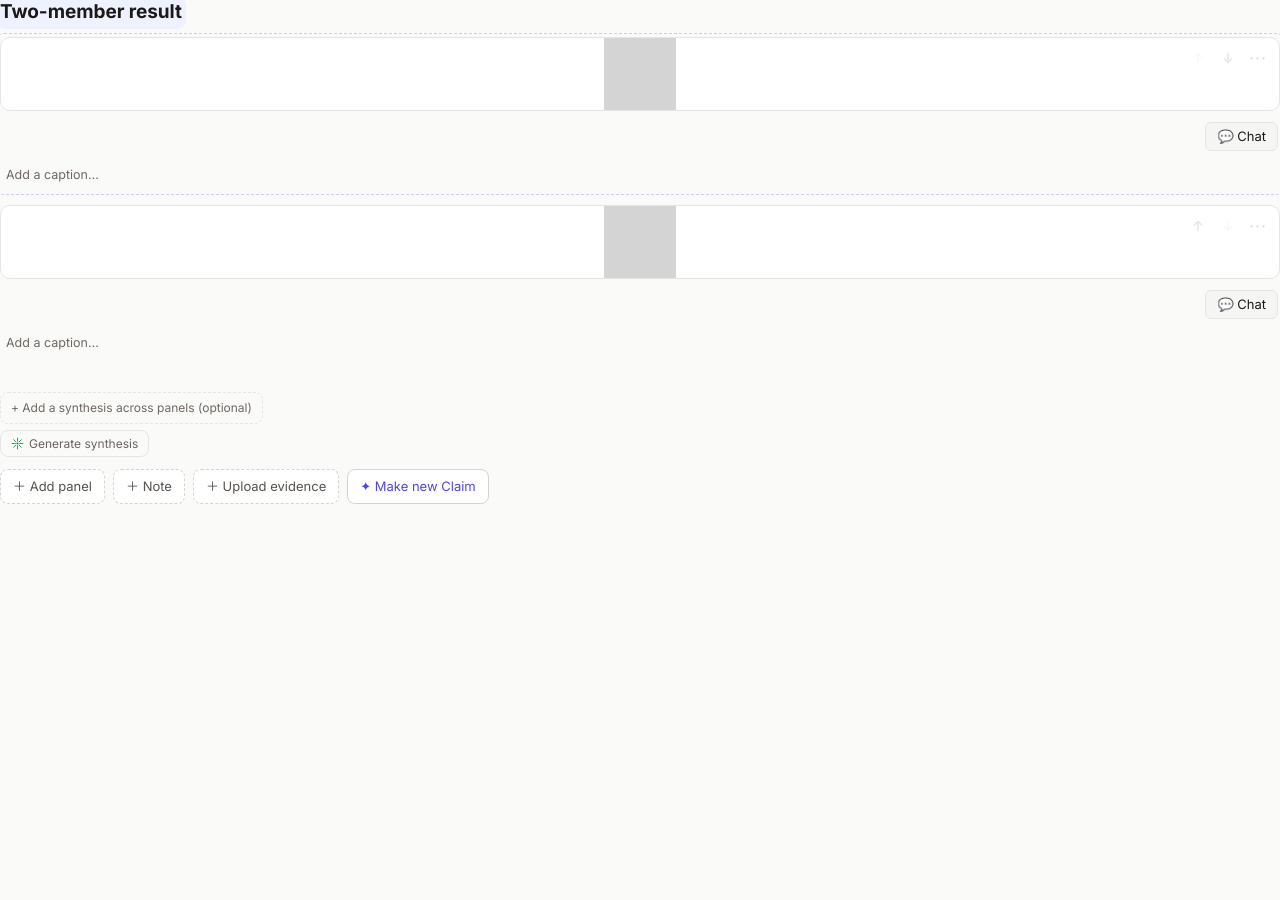
Test: ResultView.MemberPanel (redesigned) › ⋯ menu → "Remove from Result" when other members exist → standard remove-confirm dialog
The width and height of the screenshot is (1280, 900).
Click the 1st button with class "rv-panel__more-btn": (1258, 58) x1=1244 y1=45 x2=1272 y2=71
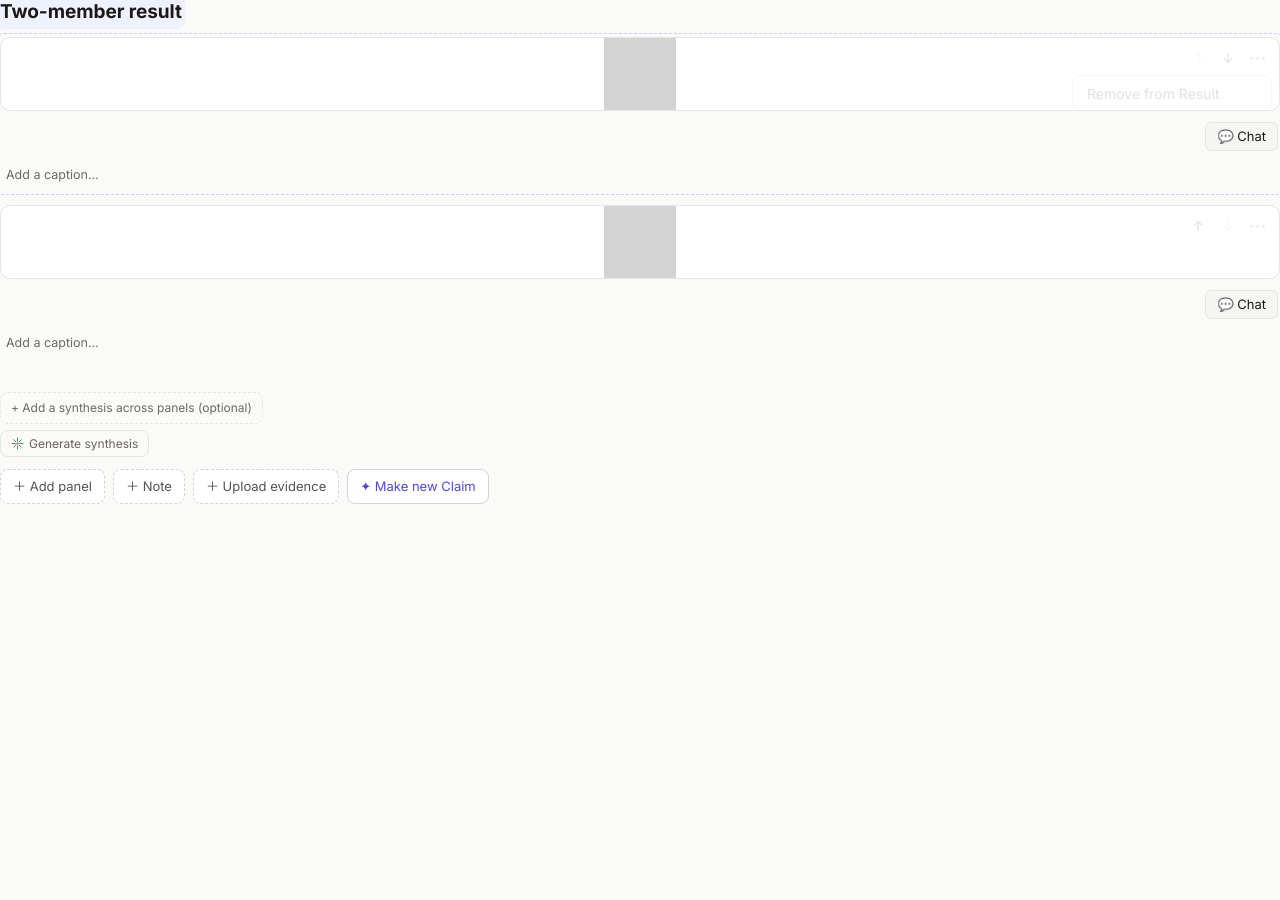
Click the menu item "Remove from Result": (1172, 93) x1=1077 y1=80 x2=1267 y2=106
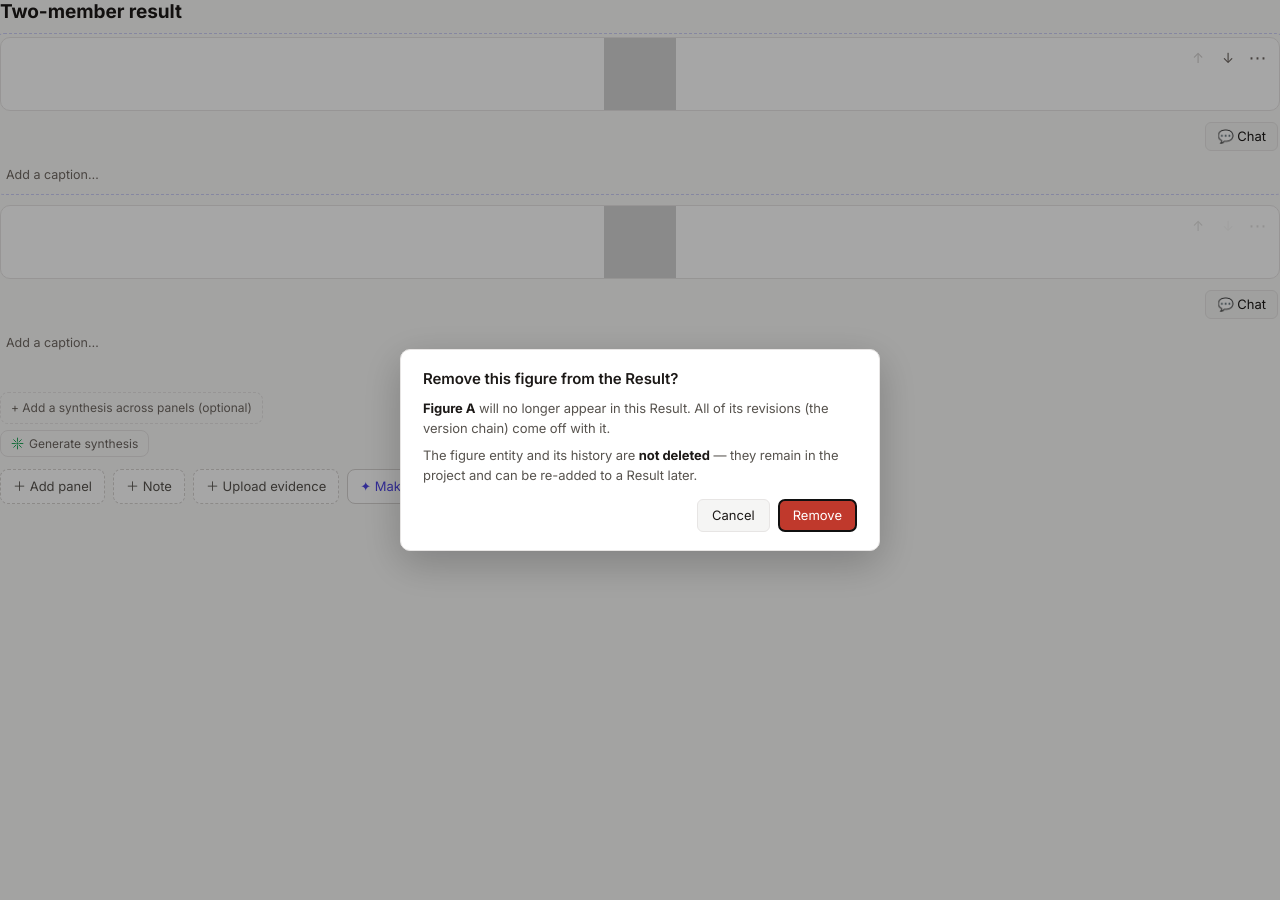
Now the dialog shows "Figure A", box x1=423 y1=400 x2=476 y2=416
// Cancel doesn't fire
Click the button "Cancel": (733, 516) x1=697 y1=500 x2=770 y2=532
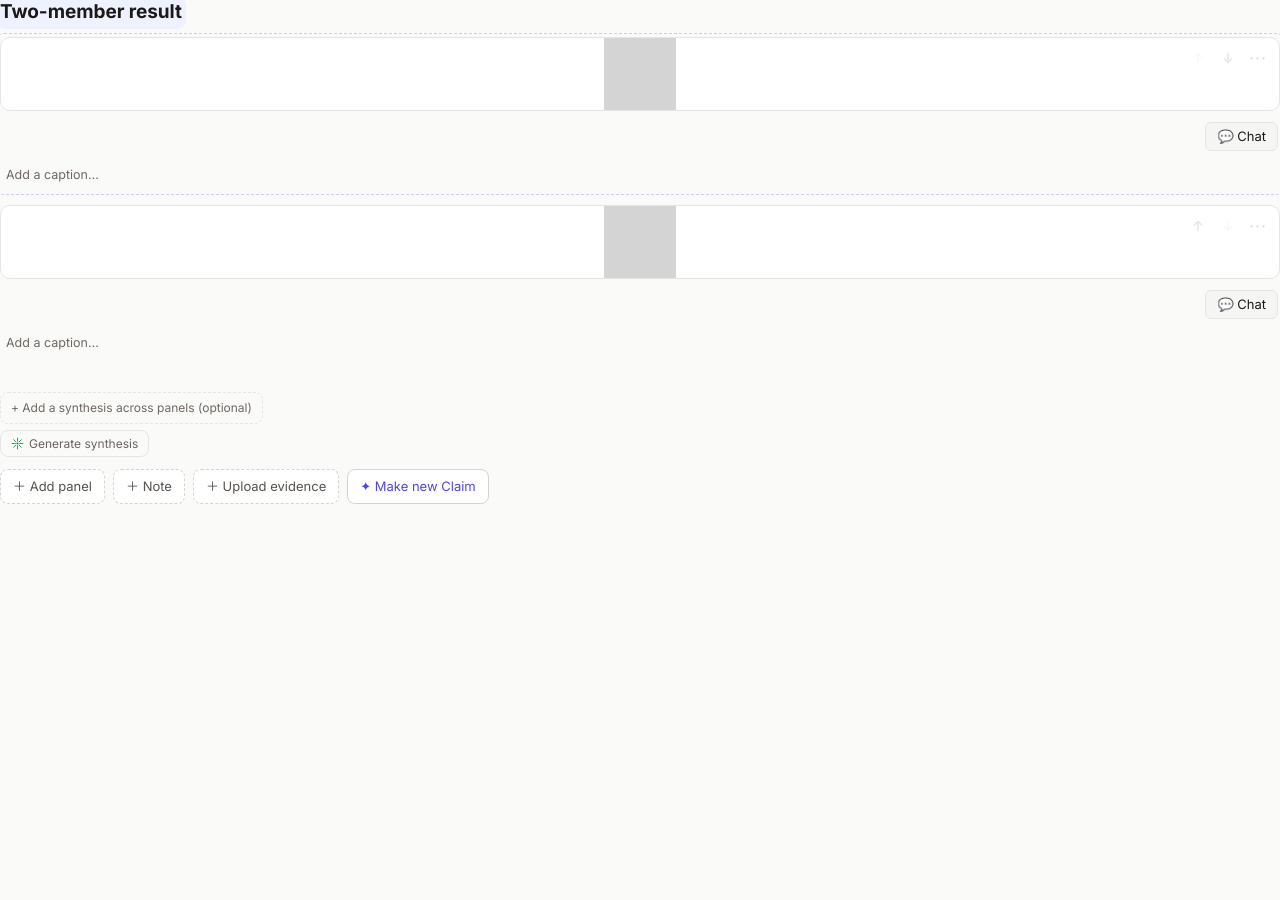
Now the dialog is gone
